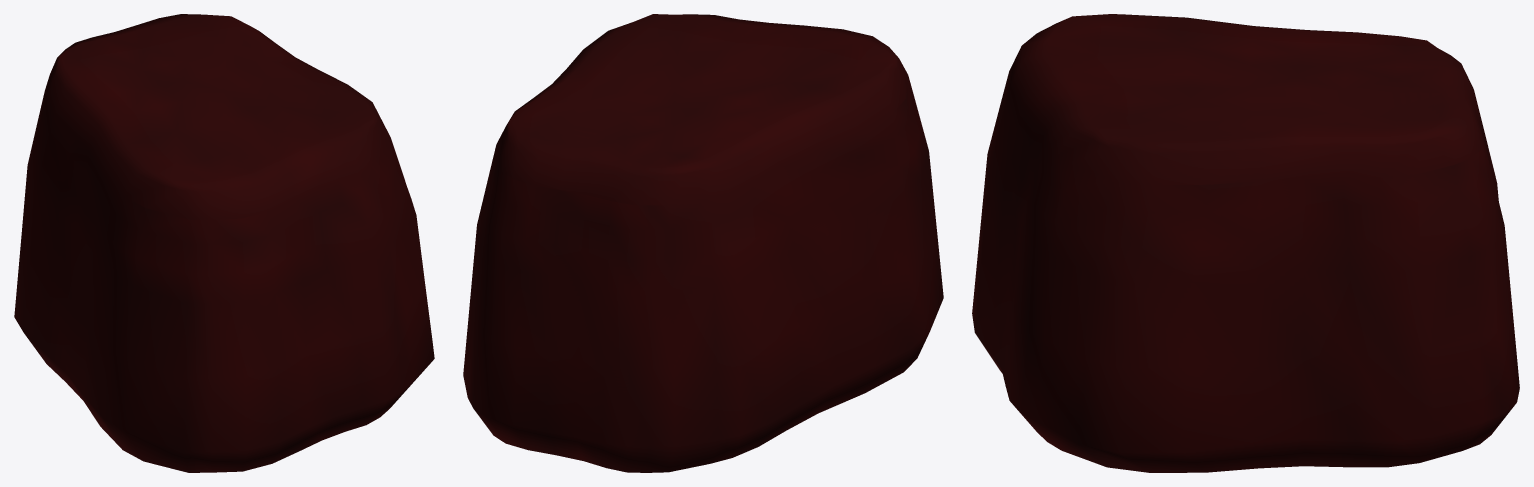
File: geology-landforms-greenplateautiny_v2.fbx
3 views of the same model, side by side, from view 1: azimuth 30°, elevation 25°; view 2: azimuth 150°, elevation 25°; view 3: azimuth 270°, elevation 25° (orthographic). The views are drawn at different scales.
Visible parts, largest first — view 1: GreenPlateauTiny_v2; view 2: GreenPlateauTiny_v2; view 3: GreenPlateauTiny_v2.
Part boxes in pixels (x1,y1,x2,y2): GreenPlateauTiny_v2: (14, 14, 434, 472); GreenPlateauTiny_v2: (463, 14, 943, 472); GreenPlateauTiny_v2: (972, 14, 1519, 472).
Size of the model in its own units: 20.63 by 16.82 by 26.43.
